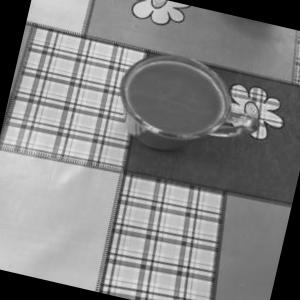cheese_sandwich: (94, 25, 280, 180)
